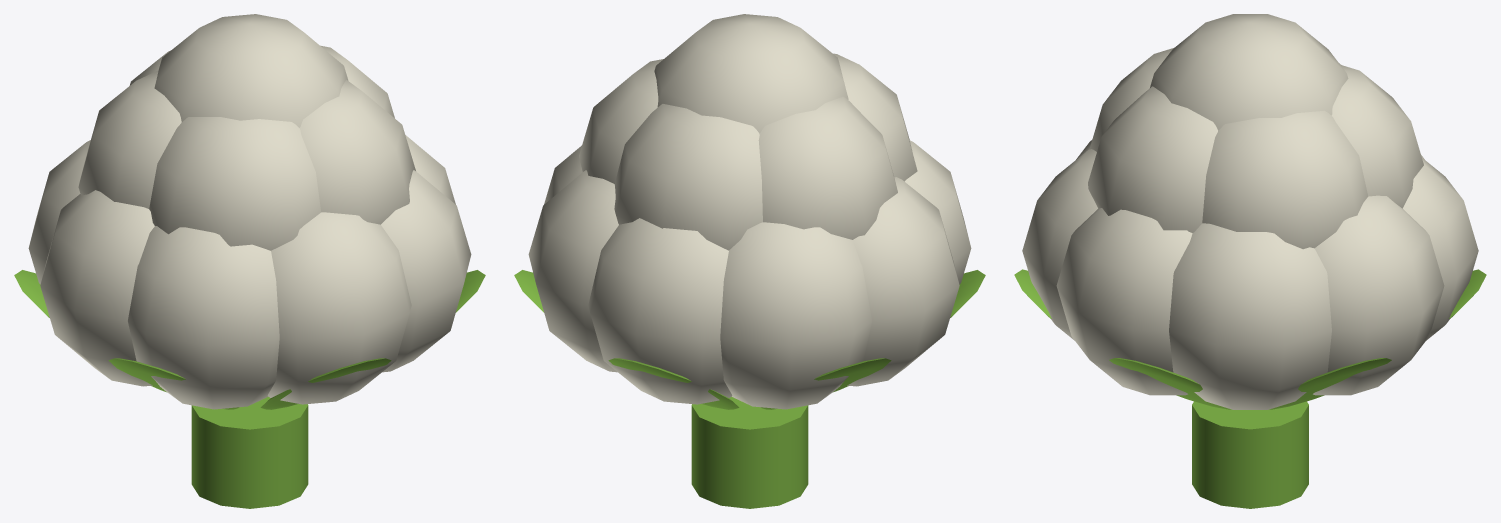
File: Cauliflower.fbx
3 renders of one model, left to right at view 1: azimuth 30°, elevation 25°; view 2: azimuth 150°, elevation 25°; view 3: azimuth 270°, elevation 25°, orthographic.
Visible parts, largest first — view 1: Cauliflower; view 2: Cauliflower; view 3: Cauliflower.
Part boxes in pixels (<box>): Cauliflower: <box>14,14,485,508</box>; Cauliflower: <box>514,14,985,508</box>; Cauliflower: <box>1014,14,1486,508</box>.
Size of the model in its own units: 0.1523 by 0.174 by 0.1615.
